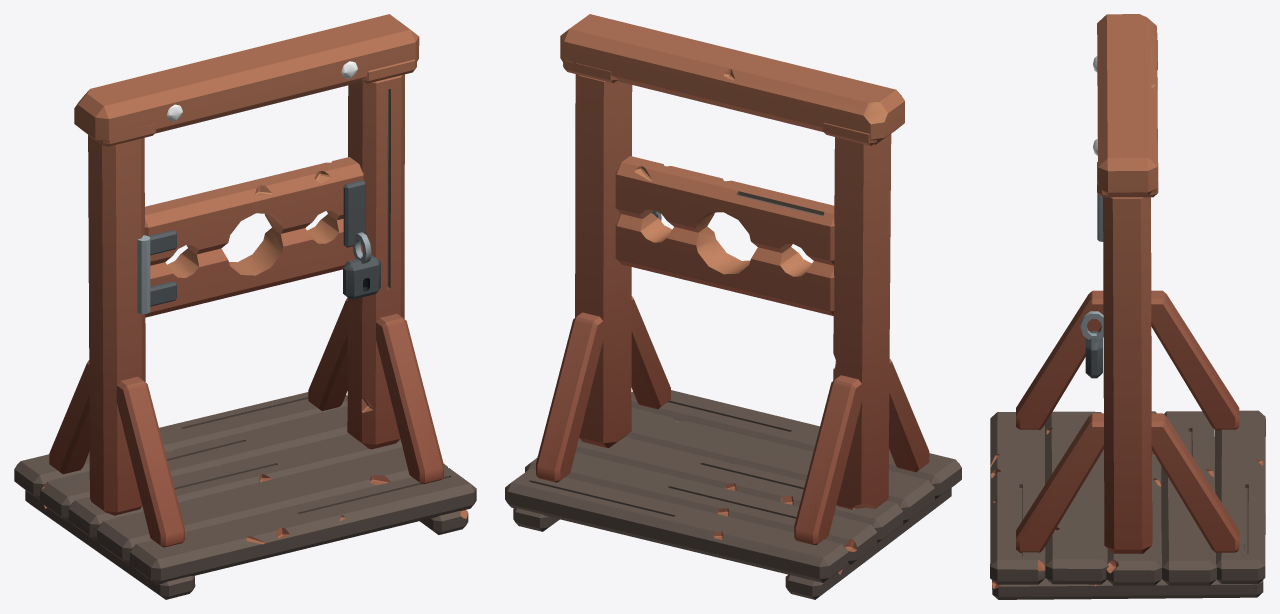
Rendered from stocks.glb.
The picture shows the model from 3 angles, left to right: view 1: azimuth 30°, elevation 25°; view 2: azimuth 150°, elevation 25°; view 3: azimuth 270°, elevation 25°; orthographic projection. The views are drawn at different scales.
Visible parts, largest first — view 1: stocks; view 2: stocks; view 3: stocks.
Boxes of the visible parts, x1=… form: stocks: x1=14, y1=14, x2=476, y2=599; stocks: x1=505, y1=14, x2=961, y2=599; stocks: x1=990, y1=14, x2=1265, y2=599.
Bounding box in the file's own units: 1.9 × 2.5 × 1.41.
1 material, 1 textured.
